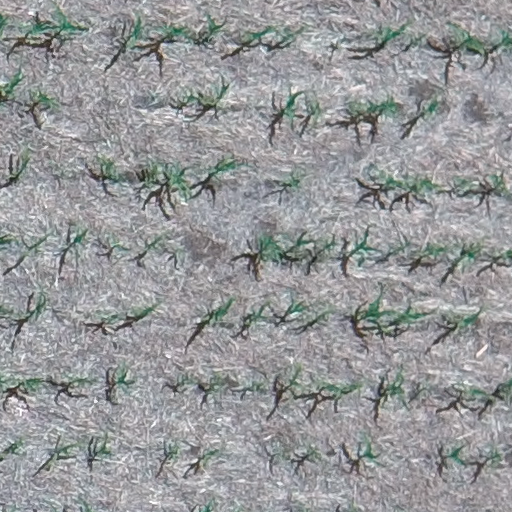planta: (355, 293, 399, 335), (254, 232, 291, 280), (376, 368, 406, 419), (180, 84, 230, 111), (45, 439, 84, 470), (163, 162, 193, 202), (313, 377, 365, 400), (452, 238, 486, 272), (200, 295, 237, 325), (15, 291, 48, 321), (206, 154, 244, 180), (348, 231, 376, 266), (95, 153, 125, 185), (416, 241, 459, 263), (7, 146, 32, 181), (375, 168, 414, 190), (448, 308, 483, 332), (390, 304, 428, 326), (402, 176, 446, 195), (280, 89, 303, 124), (142, 160, 167, 189), (29, 87, 59, 110), (286, 361, 306, 395), (284, 235, 311, 259), (375, 94, 401, 118), (347, 100, 382, 117), (243, 307, 269, 328), (306, 304, 334, 323), (197, 448, 220, 471), (113, 365, 132, 392), (207, 369, 226, 395), (361, 435, 378, 464), (16, 375, 43, 393), (130, 302, 160, 318), (95, 432, 112, 459), (421, 94, 440, 118), (280, 172, 304, 190), (284, 298, 308, 315), (446, 445, 465, 466), (145, 233, 167, 251), (308, 99, 323, 125), (71, 225, 89, 246), (454, 175, 476, 192), (29, 234, 48, 253), (318, 236, 337, 255), (66, 375, 94, 387), (8, 436, 25, 455), (99, 312, 122, 325), (306, 445, 322, 460), (168, 444, 182, 461), (109, 236, 124, 251), (344, 445, 357, 461), (250, 380, 266, 392), (392, 243, 406, 254), (179, 376, 194, 385), (391, 306, 394, 309)
